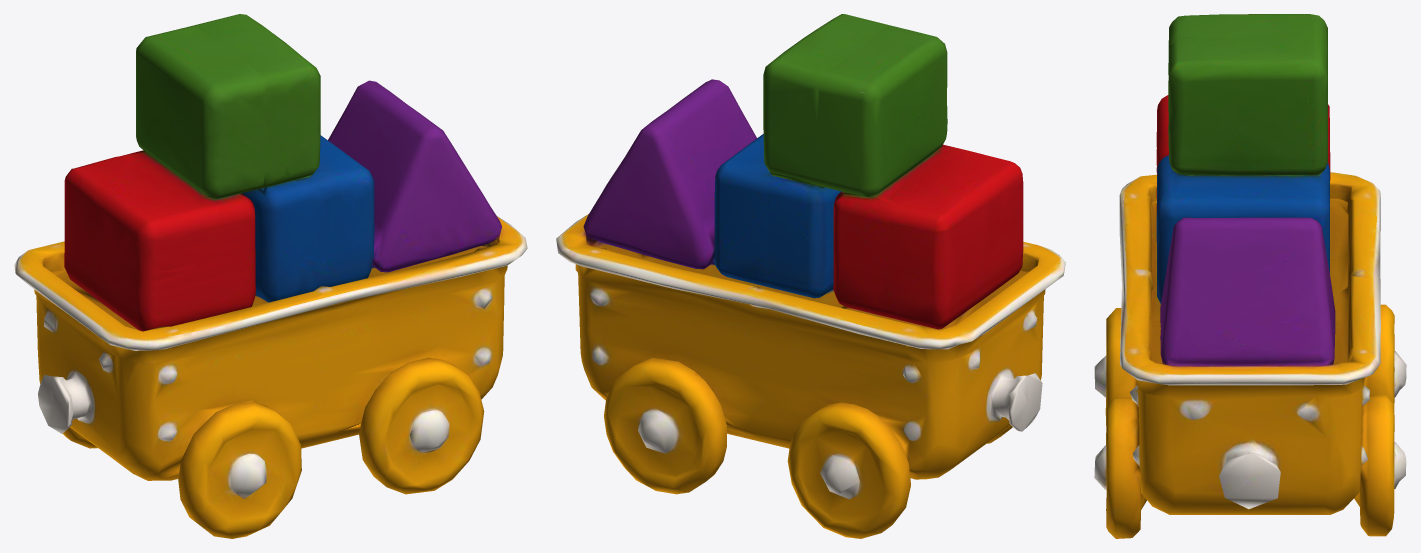
Rendered from train_wagon_yellow.glb.
The picture shows the model from 3 angles, left to right: view 1: azimuth 30°, elevation 25°; view 2: azimuth 150°, elevation 25°; view 3: azimuth 270°, elevation 25°; orthographic projection.
Parts seen in each view (by area): view 1: train_wagon_yellow; view 2: train_wagon_yellow; view 3: train_wagon_yellow.
Part boxes in pixels (x1,y1,x2,y2): train_wagon_yellow: [14, 14, 527, 538]; train_wagon_yellow: [556, 14, 1065, 538]; train_wagon_yellow: [1094, 14, 1406, 538].
Size of the model in its own units: 0.8821 by 0.8265 by 0.5431.
1 material, 1 textured.
